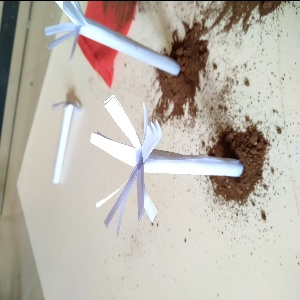weed: (81, 92, 256, 230), (45, 3, 181, 76), (44, 100, 75, 197)
